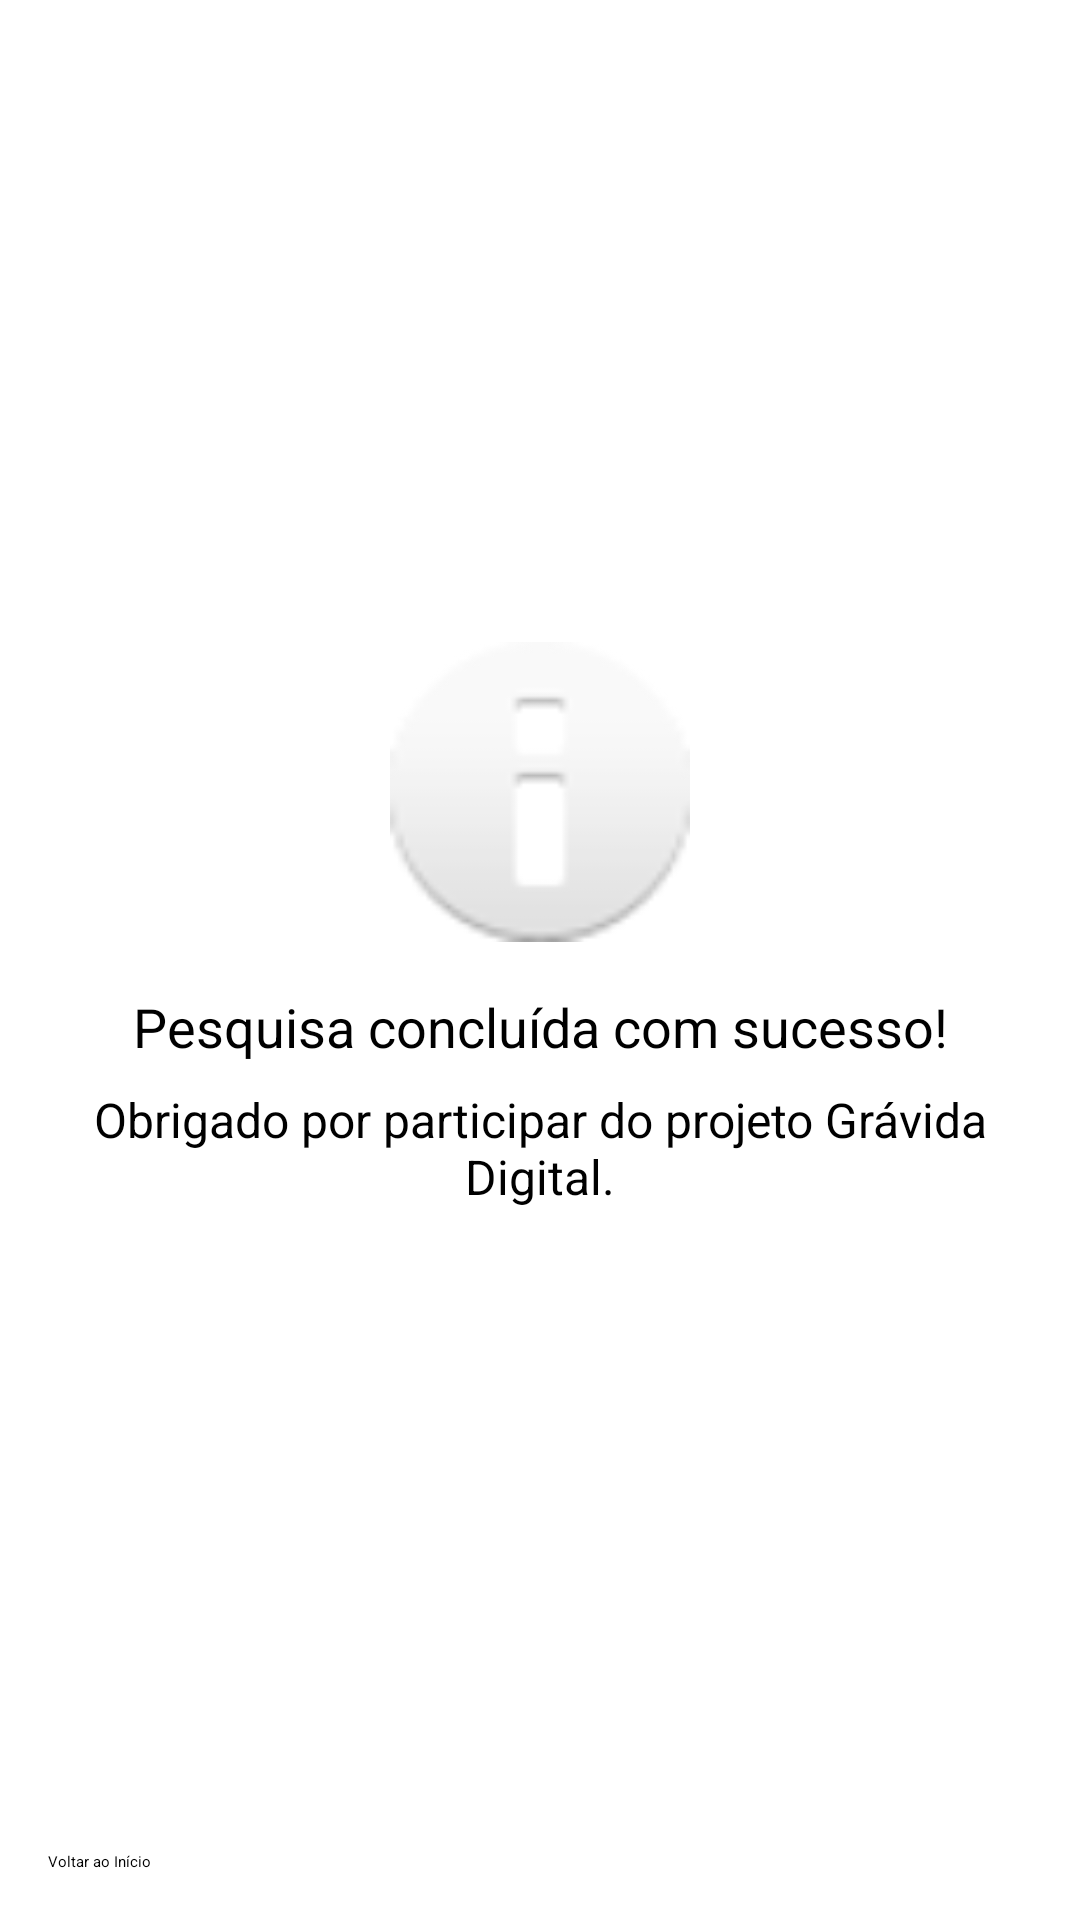

Icon bounding boxes for this 1080w x 1920h phone screenshot, format BBox(x1, y1, x2, y2):
info: BBox(390, 697, 690, 942)
